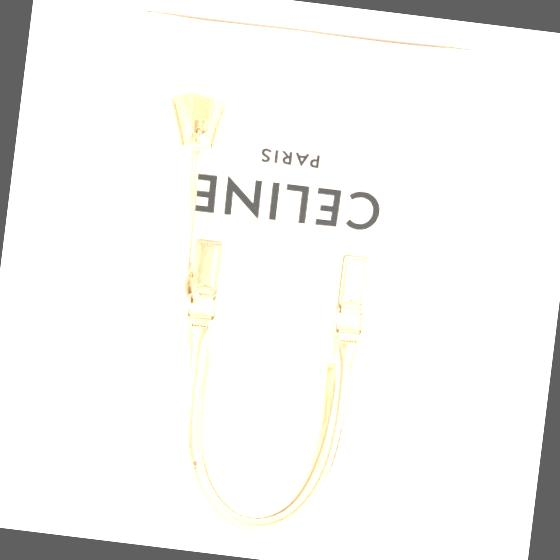CELINE: (192, 171, 380, 232)
